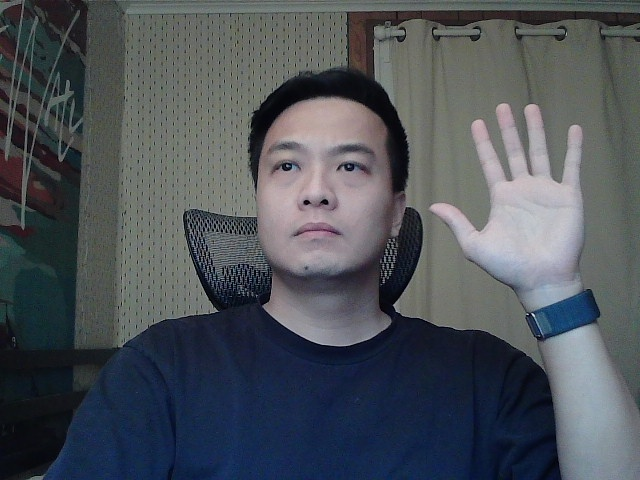Hello: (422, 98, 605, 306)
